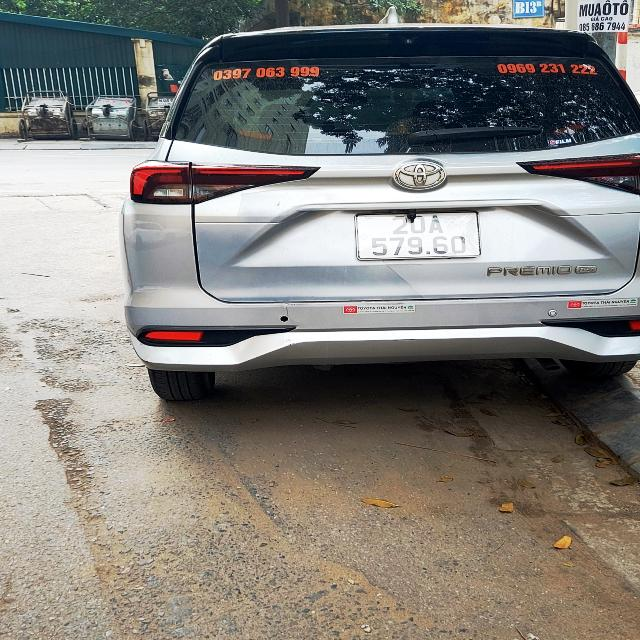license_plate: (358, 209, 485, 263)
